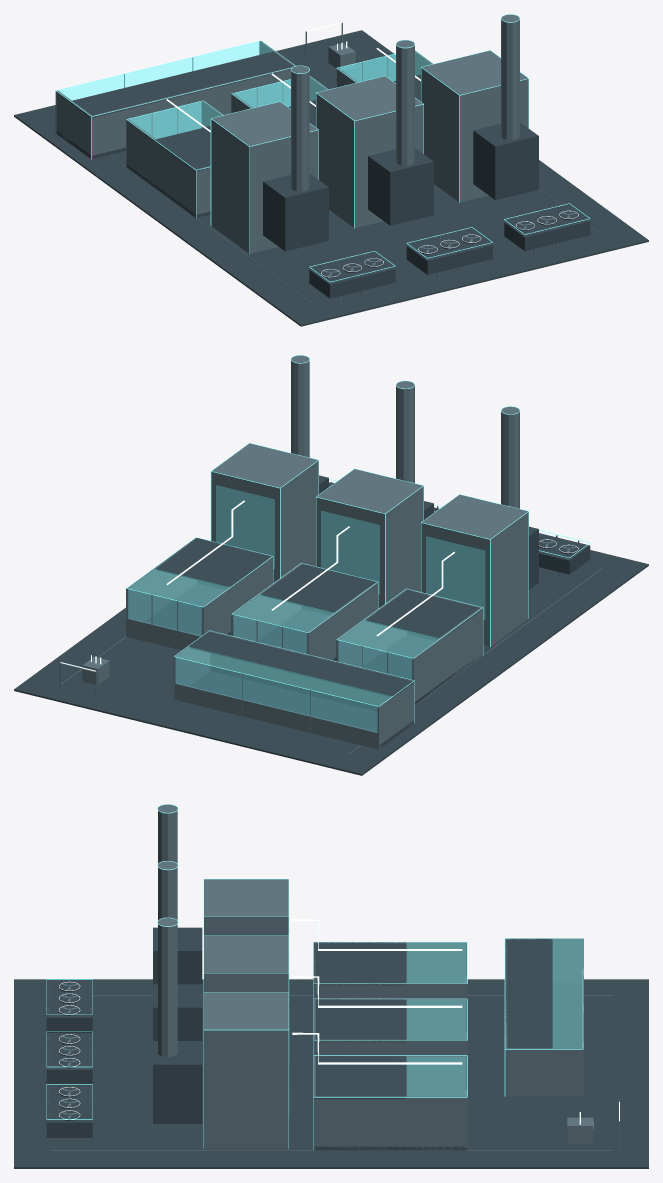
Rendered from natural_gas_plant.lod1.glb.
The picture shows the model from 3 angles, top to bottom: view 1: azimuth 30°, elevation 25°; view 2: azimuth 150°, elevation 25°; view 3: azimuth 270°, elevation 25°; orthographic projection. The views are drawn at different scales.
Parts seen in each view (by area): view 1: natural_gas_plant_graphite.001, natural_gas_plant_graphite_light.001, natural_gas_plant_glass.001, natural_gas_plant_edge.001, natural_gas_plant_white.001; view 2: natural_gas_plant_graphite_light.001, natural_gas_plant_graphite.001, natural_gas_plant_glass.001, natural_gas_plant_edge.001, natural_gas_plant_white.001; view 3: natural_gas_plant_graphite.001, natural_gas_plant_graphite_light.001, natural_gas_plant_glass.001, natural_gas_plant_edge.001, natural_gas_plant_white.001.
Boxes of the visible parts, x1,y1,x2,y2 form: natural_gas_plant_graphite.001: [14, 30, 648, 326]; natural_gas_plant_graphite_light.001: [55, 14, 602, 305]; natural_gas_plant_glass.001: [58, 41, 431, 138]; natural_gas_plant_edge.001: [56, 14, 590, 282]; natural_gas_plant_white.001: [166, 22, 578, 277]; natural_gas_plant_graphite_light.001: [59, 355, 602, 754]; natural_gas_plant_graphite.001: [14, 475, 648, 775]; natural_gas_plant_glass.001: [128, 485, 484, 732]; natural_gas_plant_edge.001: [126, 355, 589, 723]; natural_gas_plant_white.001: [60, 486, 578, 671]; natural_gas_plant_graphite.001: [14, 927, 648, 1168]; natural_gas_plant_graphite_light.001: [47, 804, 619, 1150]; natural_gas_plant_glass.001: [289, 939, 582, 1096]; natural_gas_plant_edge.001: [46, 804, 583, 1149]; natural_gas_plant_white.001: [59, 919, 619, 1124].
Bounding box in the file's own units: 136 × 70.7 × 194.
